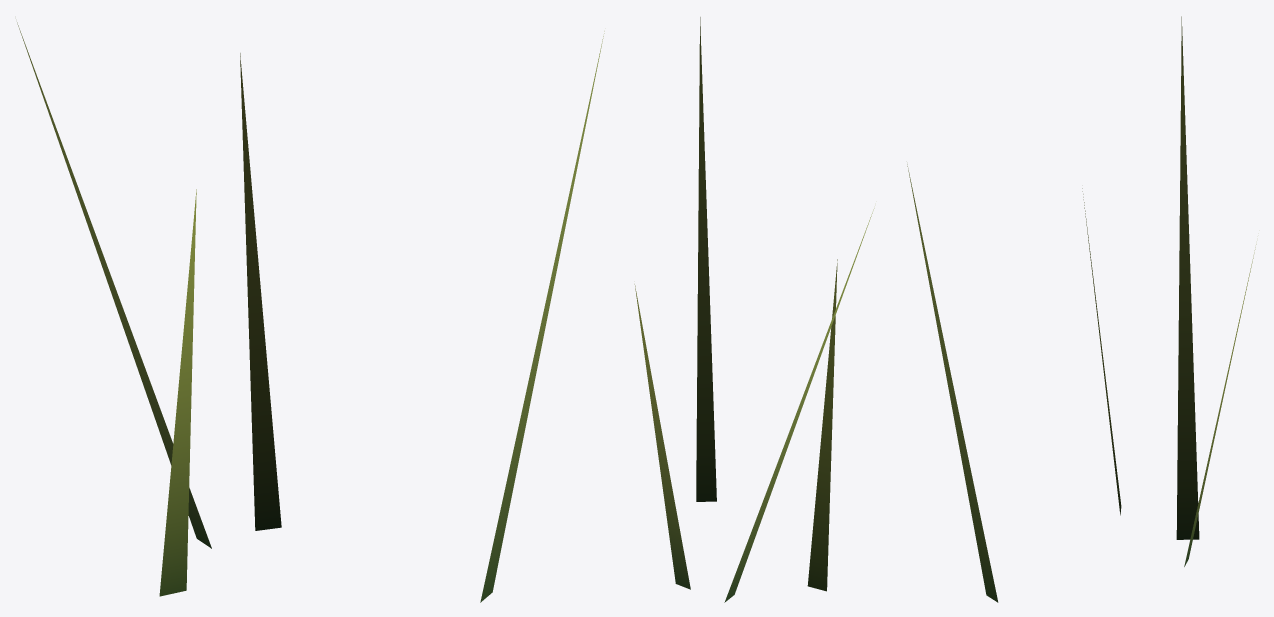
File: grass-meadow-b.lod2.glb
3 views of the same model, side by side, from view 1: azimuth 30°, elevation 25°; view 2: azimuth 150°, elevation 25°; view 3: azimuth 270°, elevation 25° (orthographic). The views are drawn at different scales.
Bounding box in the file's own units: 0.4831 × 0.6647 × 0.4579.
